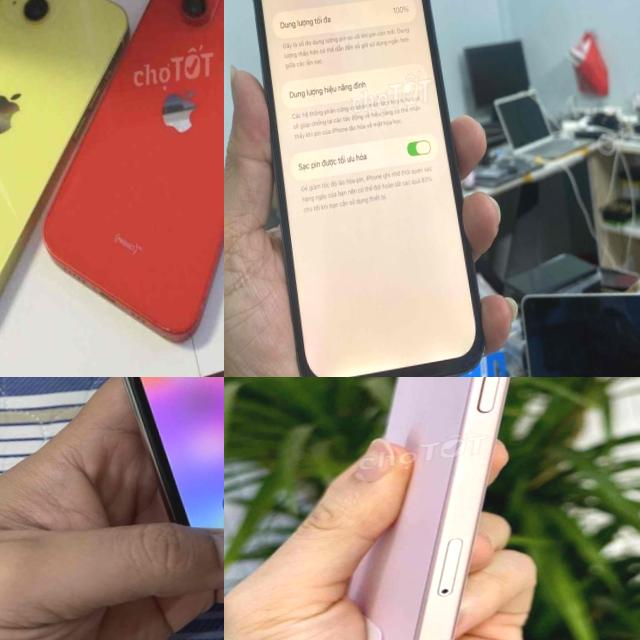gen_11: (49, 377, 224, 595)
gen_12_13: (224, 377, 619, 640)
gen_14: (224, 0, 504, 377)
